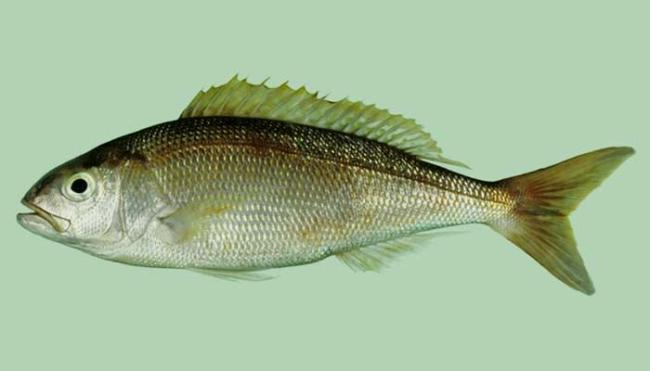fish: (16, 73, 638, 296)
